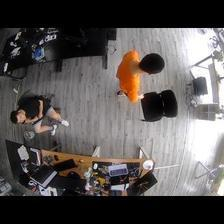normal: (113, 47, 163, 102), (12, 96, 70, 139)
